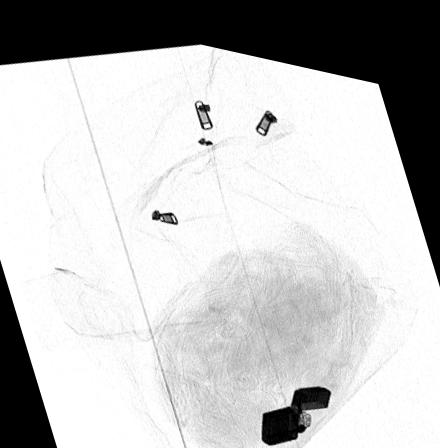Lighter: (261, 370, 331, 433)
